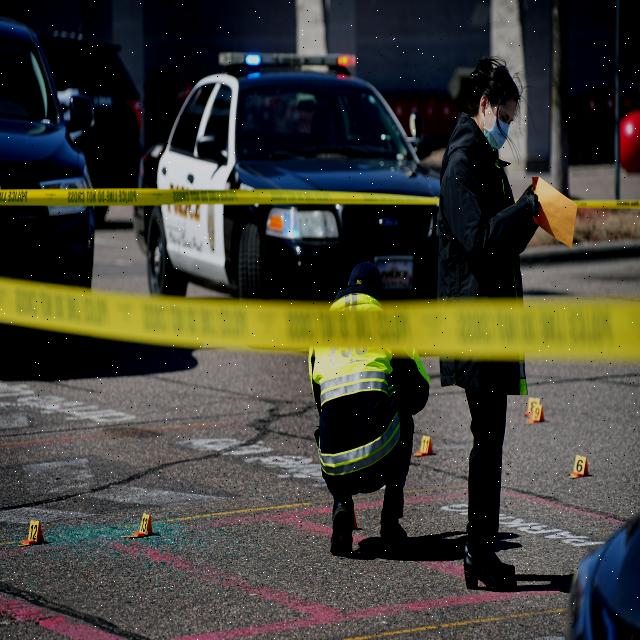police: (431, 21, 537, 582), (284, 256, 425, 565)
